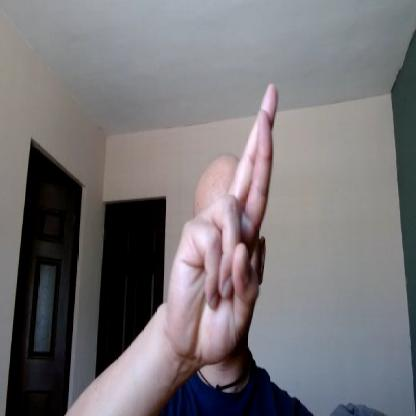R: (171, 82, 279, 362)
